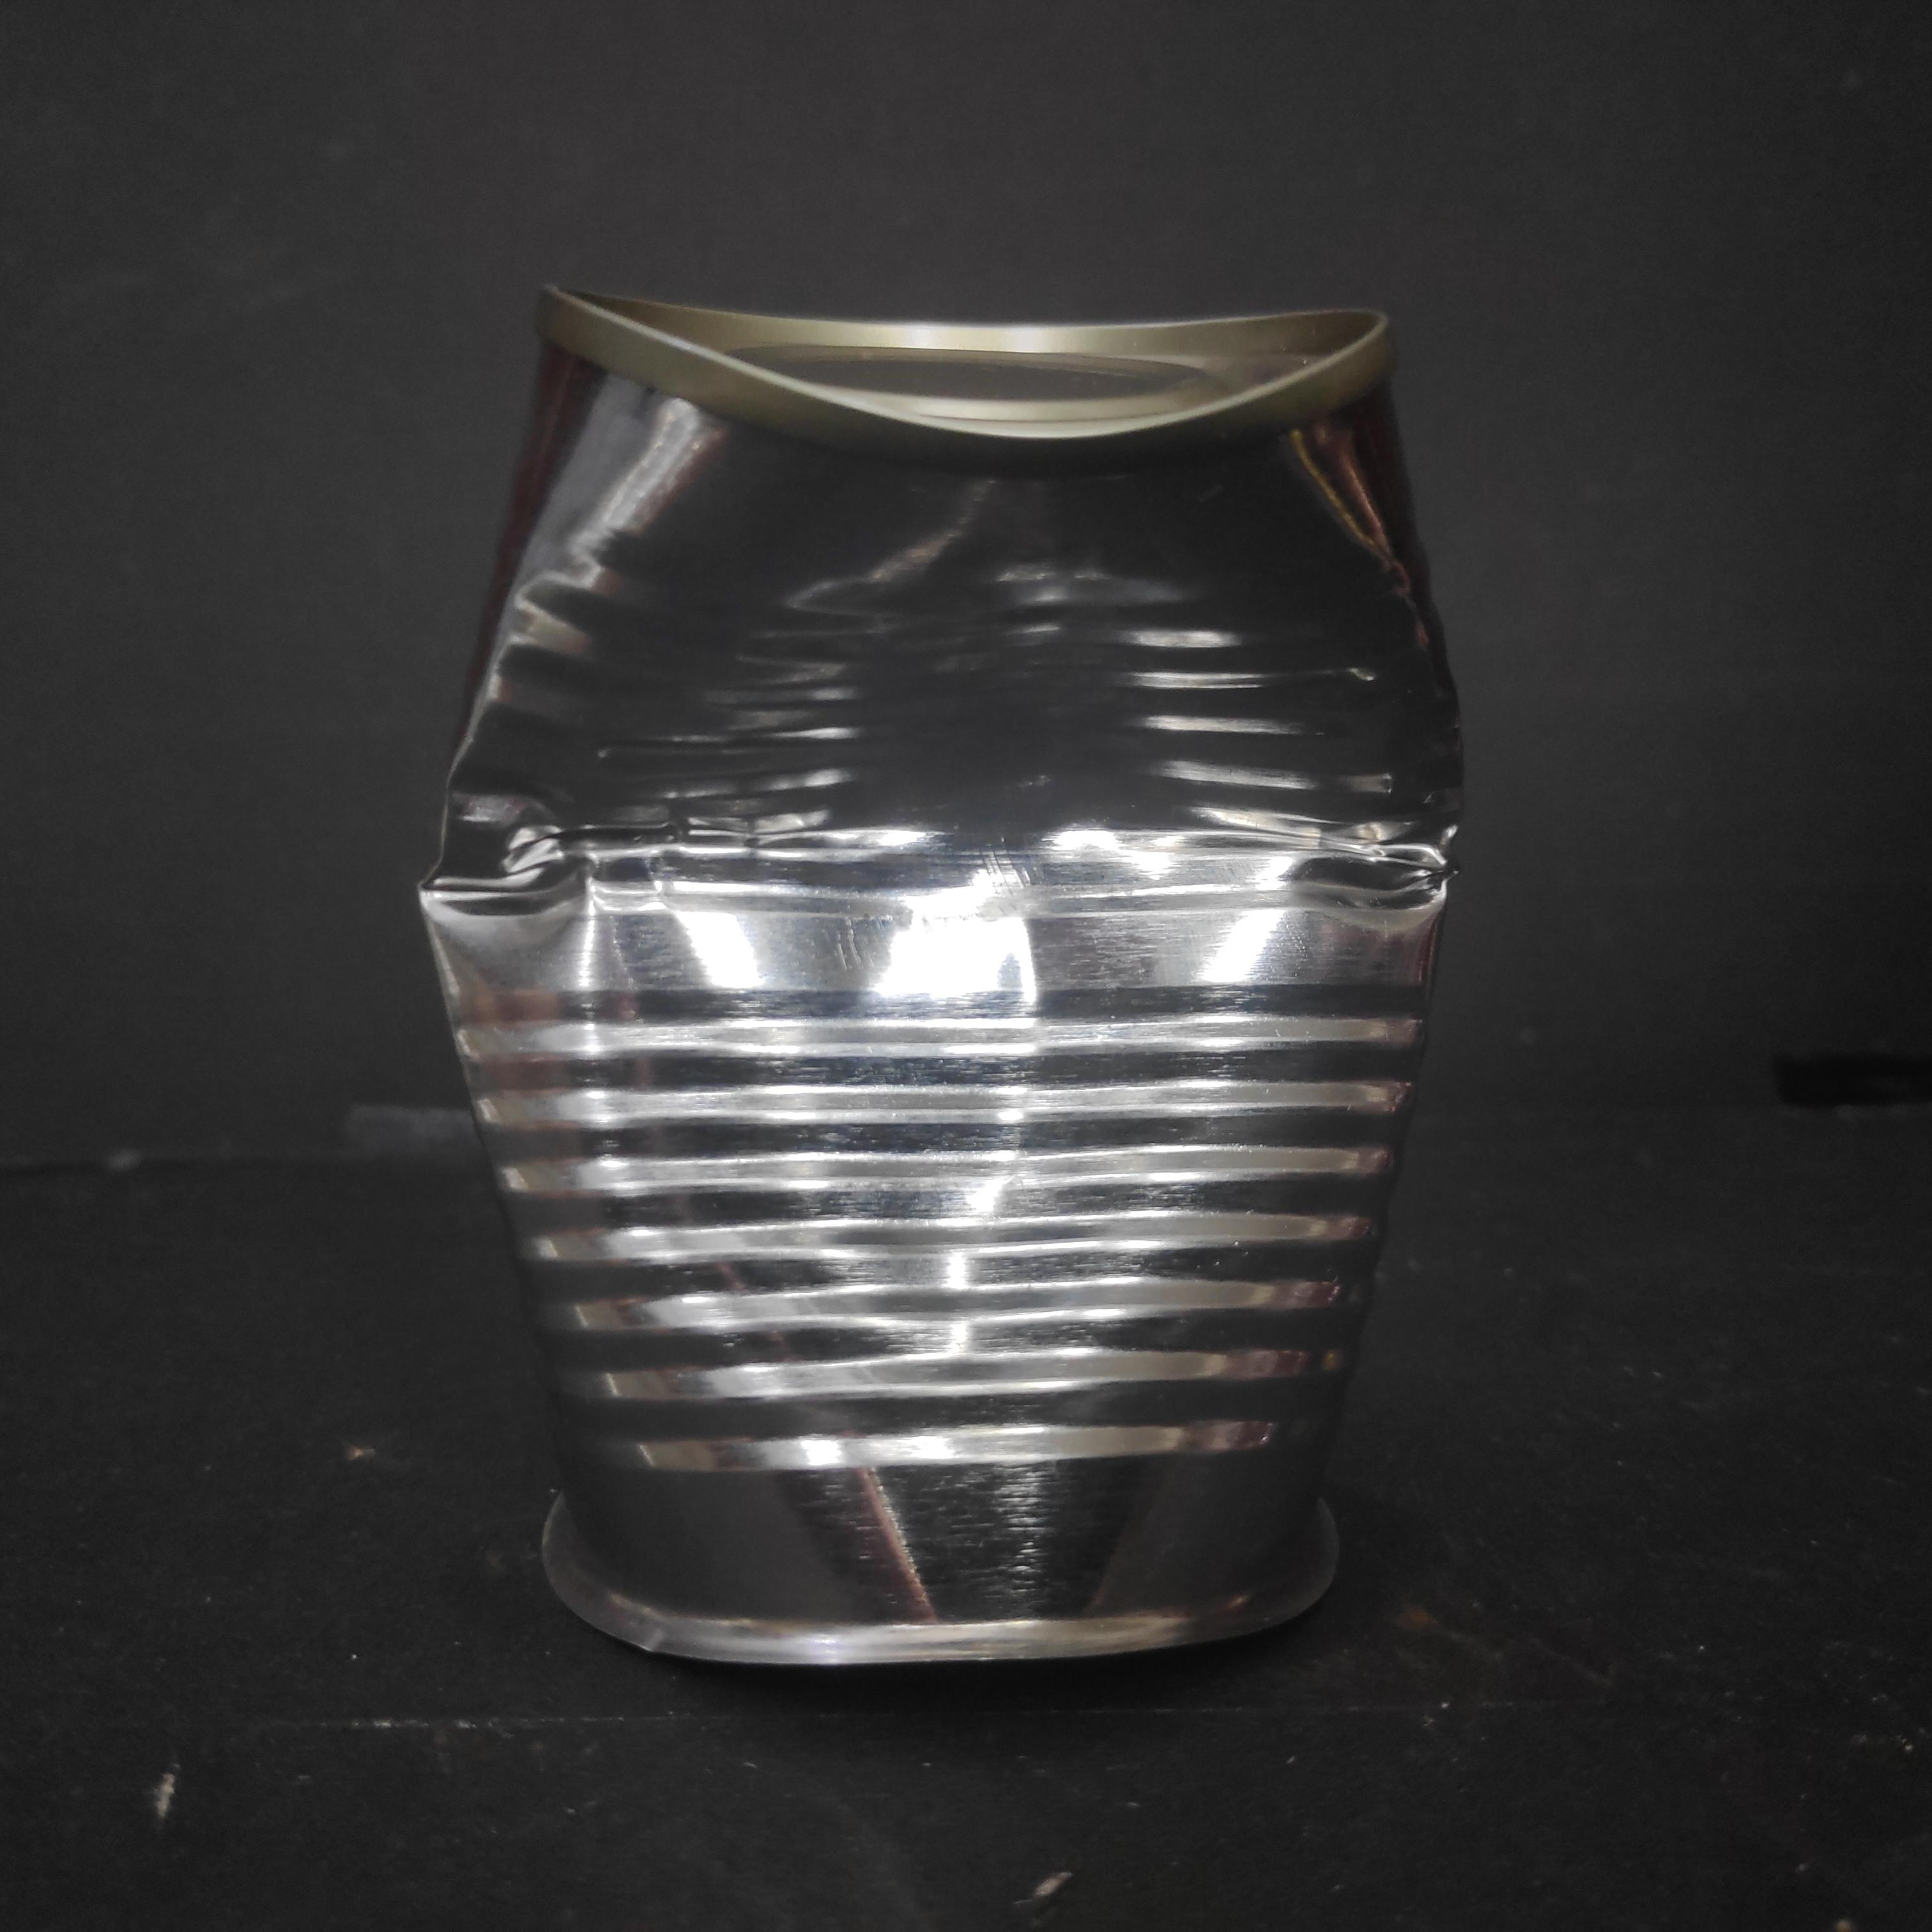Major Defect: (384, 253, 1488, 1691)
